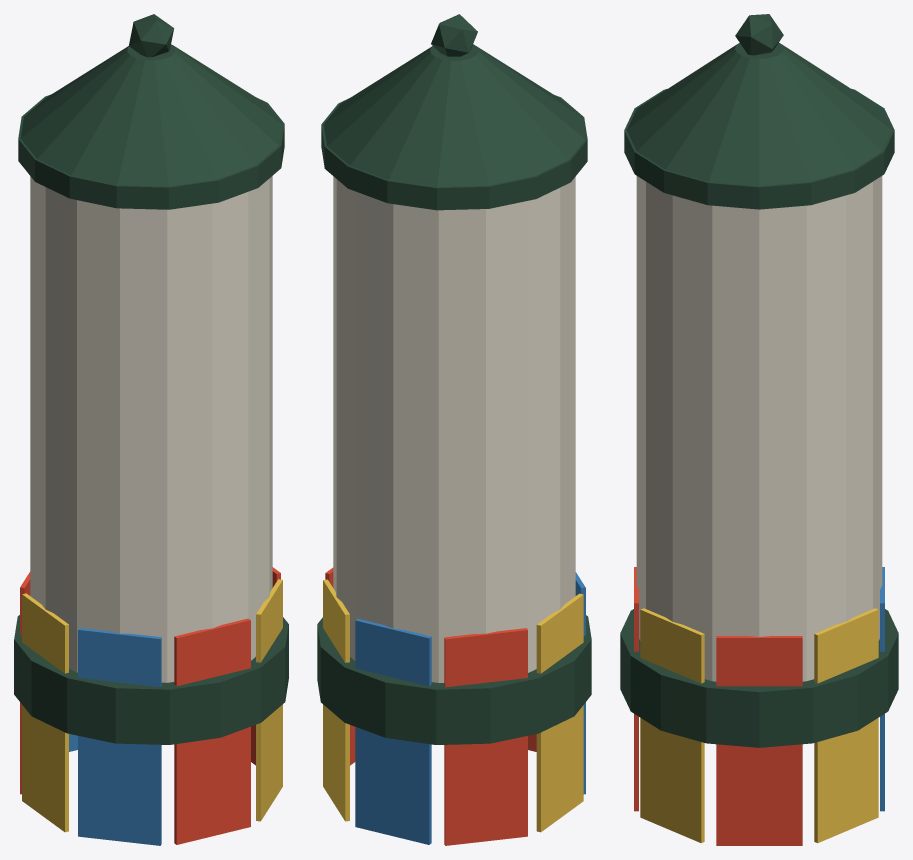
File: getkong-hhlitfass.glb
3 renders of one model, left to right at view 1: azimuth 30°, elevation 25°; view 2: azimuth 150°, elevation 25°; view 3: azimuth 270°, elevation 25°, orthographic.
Visible parts, largest first — view 1: litfass; view 2: litfass; view 3: litfass.
Part boxes in pixels (x1=…): litfass: x1=14, y1=14, x2=288, y2=845; litfass: x1=317, y1=14, x2=591, y2=845; litfass: x1=620, y1=14, x2=898, y2=845.
Size of the model in its own units: 1.36 by 4.19 by 1.36.
